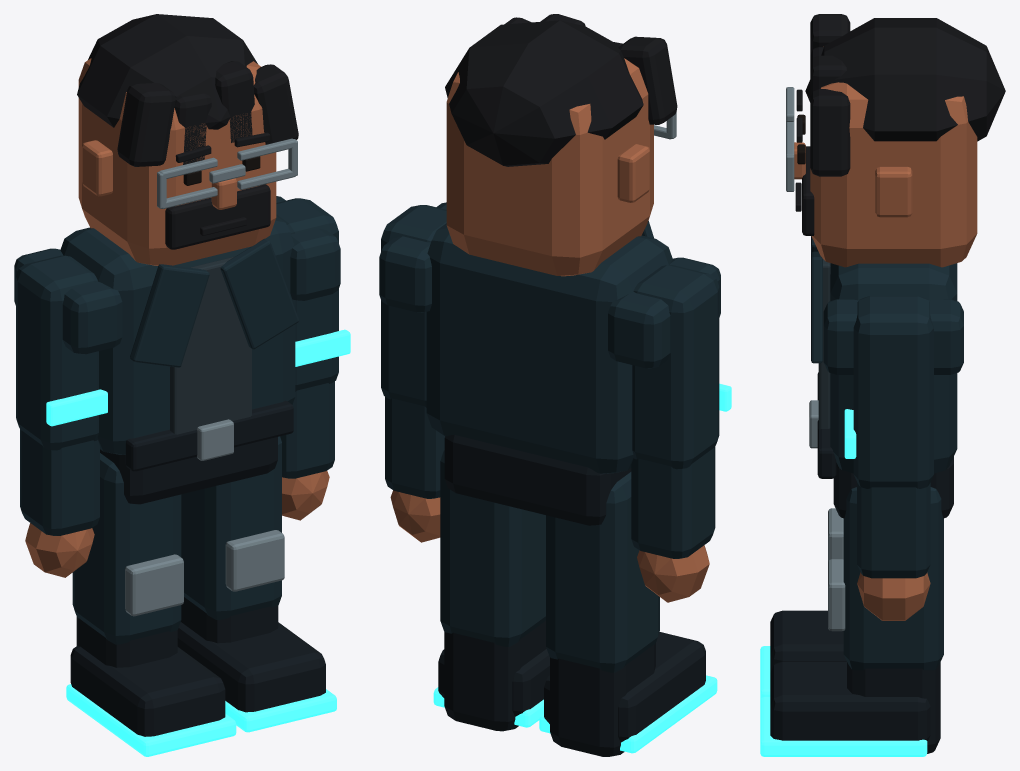
The model's file is agent-jarvis.glb.
3 views of the same model, side by side, from view 1: azimuth 30°, elevation 25°; view 2: azimuth 150°, elevation 25°; view 3: azimuth 270°, elevation 25° (orthographic). The views are drawn at different scales.
Visible parts, largest first — view 1: torso_mesh, head_mesh, hair_cap, upper_arm_-1, thigh_mesh_-1, thigh_mesh_1, boot_-1, shirt_panel, boot_1, forearm_mesh_-1, waist_mesh, lapel_-1 (+27 smaller); view 2: torso_mesh, head_mesh, hair_cap, thigh_mesh_-1, thigh_mesh_1, upper_arm_-1, waist_mesh, forearm_mesh_-1, shin_mesh_-1, shin_mesh_1, upper_arm_1, boot_-1 (+10 smaller); view 3: head_mesh, hair_cap, upper_arm_1, boot_1, thigh_mesh_1, torso_mesh, forearm_mesh_1, shoulder_pad_1, boot_-1, hair_lock_3, sole_1, shin_mesh_1 (+14 smaller).
Boxes of the visible parts, x1=… form: torso_mesh: x1=60, y1=216, x2=295, y2=454; head_mesh: x1=78, y1=58, x2=276, y2=265; hair_cap: x1=77, y1=14, x2=257, y2=129; upper_arm_-1: x1=16, y1=255, x2=98, y2=450; thigh_mesh_-1: x1=72, y1=453, x2=181, y2=644; thigh_mesh_1: x1=181, y1=436, x2=281, y2=620; boot_-1: x1=70, y1=645, x2=225, y2=736; shirt_panel: x1=170, y1=256, x2=251, y2=434; boot_1: x1=177, y1=622, x2=325, y2=712; forearm_mesh_-1: x1=20, y1=429, x2=99, y2=535; waist_mesh: x1=100, y1=437, x2=277, y2=504; lapel_-1: x1=130, y1=264, x2=209, y2=367; torso_mesh: x1=426, y1=223, x2=672, y2=473; head_mesh: x1=446, y1=58, x2=653, y2=276; hair_cap: x1=445, y1=20, x2=643, y2=166; thigh_mesh_-1: x1=546, y1=472, x2=659, y2=672; thigh_mesh_1: x1=440, y1=449, x2=545, y2=646; upper_arm_-1: x1=632, y1=265, x2=719, y2=469; waist_mesh: x1=444, y1=435, x2=631, y2=525; forearm_mesh_-1: x1=631, y1=447, x2=715, y2=558; shin_mesh_-1: x1=550, y1=643, x2=655, y2=756; shin_mesh_1: x1=444, y1=621, x2=546, y2=731; upper_arm_1: x1=381, y1=205, x2=446, y2=407; boot_-1: x1=544, y1=632, x2=705, y2=742; head_mesh: x1=810, y1=46, x2=977, y2=267; hair_cap: x1=805, y1=18, x2=1005, y2=141; upper_arm_1: x1=853, y1=296, x2=933, y2=488; boot_1: x1=770, y1=661, x2=930, y2=741; thigh_mesh_1: x1=843, y1=487, x2=943, y2=670; torso_mesh: x1=830, y1=263, x2=957, y2=473; forearm_mesh_1: x1=857, y1=482, x2=930, y2=578; shoulder_pad_1: x1=823, y1=299, x2=963, y2=374; boot_-1: x1=770, y1=610, x2=846, y2=672; hair_lock_3: x1=810, y1=89, x2=850, y2=176; sole_1: x1=760, y1=697, x2=927, y2=756; shin_mesh_1: x1=847, y1=662, x2=940, y2=753.
Bounding box in the file's own units: 1.07 × 2.28 × 0.735.
